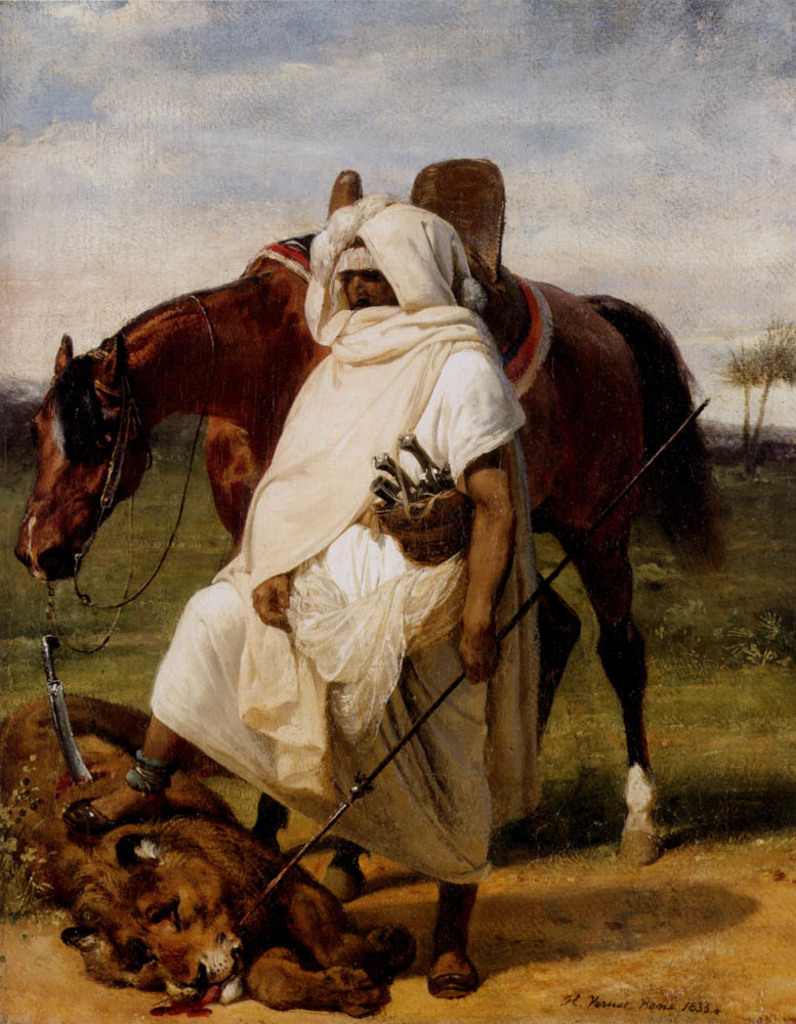Person: (61, 197, 540, 996)
